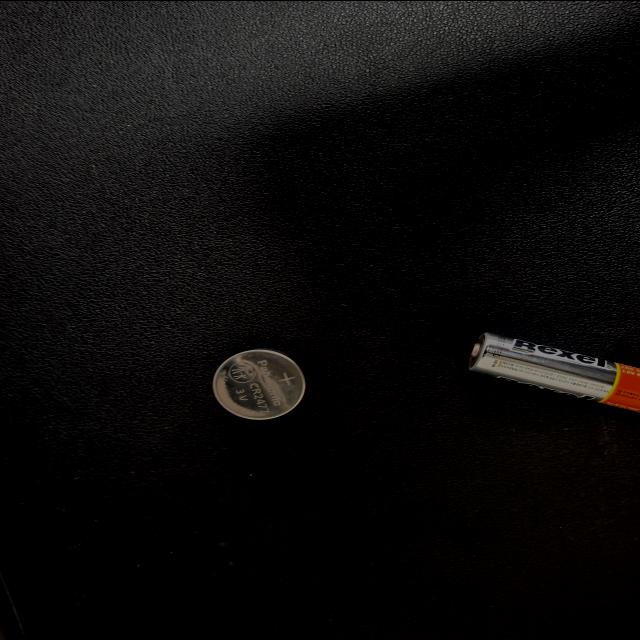AA: (439, 164, 553, 290)
COIN: (462, 409, 560, 482)
